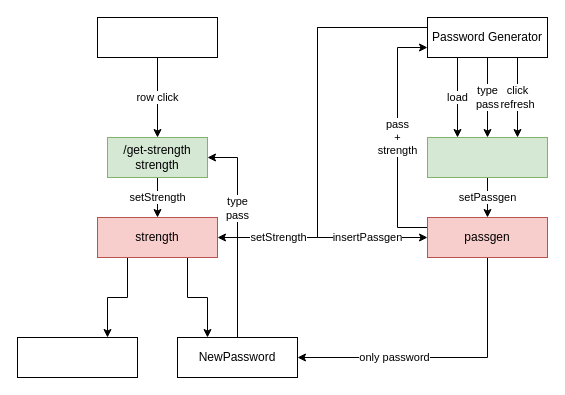
The diagram is 565 pixels wide and 395 high, and some of its shapes have lost their labels. Here are the shapes that lost their labels. From the top down, the centre of each, then its label:
At point 157,37: "use-passwords".
At point 487,157: "/create password + strength".
At point 77,357: "Password details".
